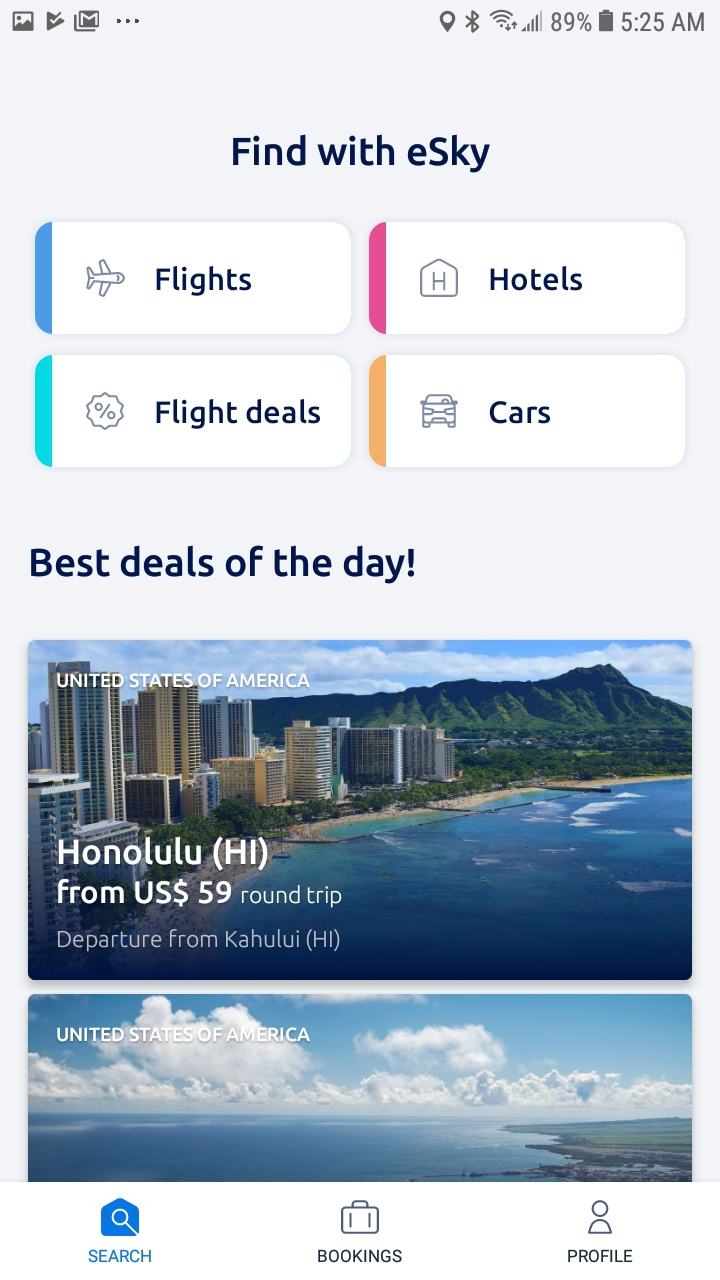Icon: (101, 1198, 140, 1236), (341, 1199, 380, 1234), (588, 1199, 613, 1235)
Image: (29, 640, 692, 981), (29, 994, 692, 1182), (86, 259, 126, 298), (86, 392, 126, 431), (420, 259, 459, 298), (420, 394, 459, 429)
Text: (58, 837, 343, 909), (31, 545, 415, 585), (233, 134, 491, 174), (58, 928, 341, 953), (54, 672, 310, 688), (57, 1026, 311, 1042), (318, 1249, 403, 1263), (568, 1249, 633, 1263), (89, 1249, 152, 1263)
TextButton: (369, 222, 686, 336), (35, 222, 352, 335), (369, 355, 686, 468), (35, 355, 352, 468)
UpperTaskBar: (1, 1, 720, 43)
